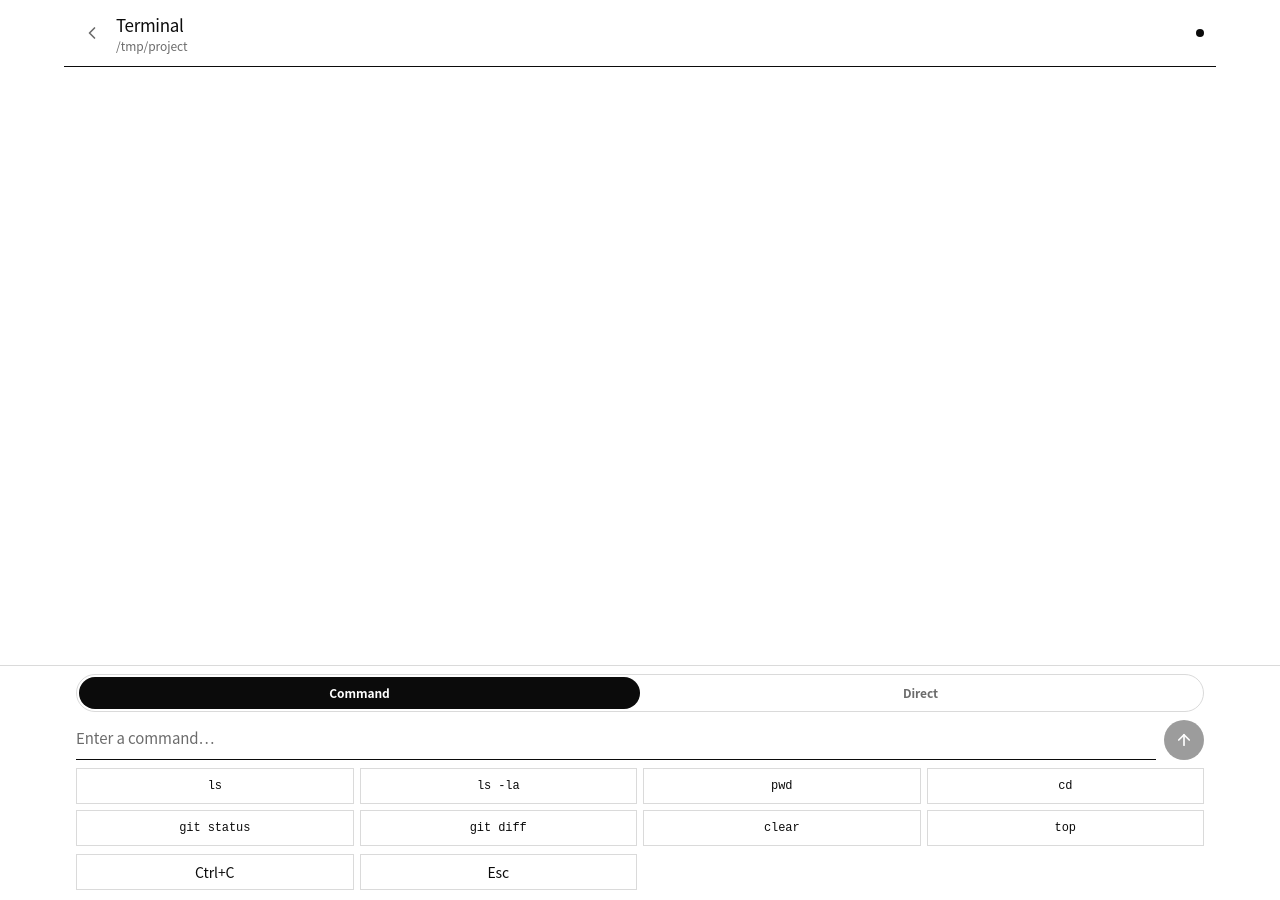
TerminalPage compact command input › inserts a basic command for review before running it
Later steps or results of the test are not shown.
Click the button "ls".
click(215, 786)  # box [76, 768, 354, 804]
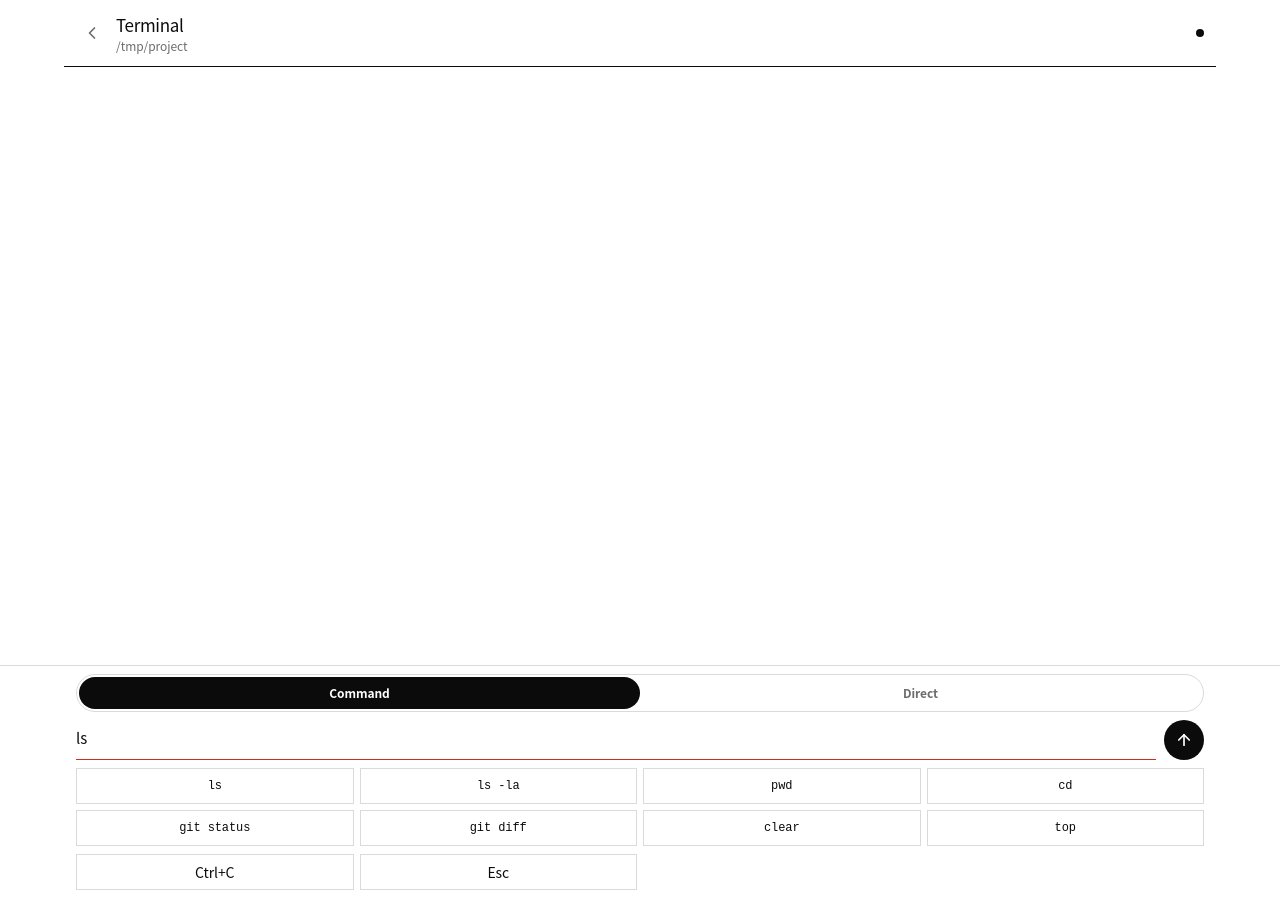
Expected: the text box named "Command input" holds "ls", [76, 720, 1156, 760]
